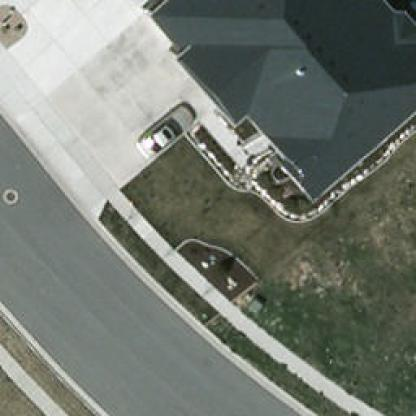car: (137, 106, 190, 158)
